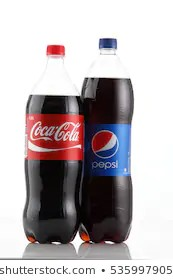coke-bottle-2l: (26, 41, 83, 244)
